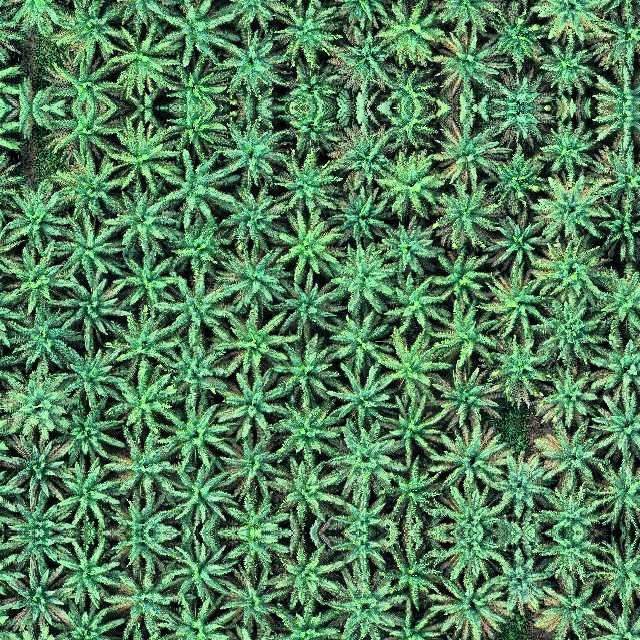Kelapa_Sawit: (330, 421, 406, 499), (212, 362, 290, 438), (155, 151, 231, 225), (330, 566, 406, 640), (532, 232, 612, 302), (326, 242, 399, 315), (160, 334, 231, 409), (535, 173, 610, 243), (435, 423, 510, 493), (487, 331, 555, 408), (434, 572, 509, 640), (3, 433, 74, 504), (3, 562, 74, 633), (51, 395, 123, 465), (2, 244, 75, 313), (2, 368, 72, 439), (380, 148, 448, 220), (162, 399, 234, 467), (374, 332, 447, 399), (270, 212, 344, 278), (274, 334, 340, 408), (59, 341, 127, 412), (52, 459, 123, 527), (52, 538, 123, 606), (380, 264, 447, 336), (53, 217, 128, 281), (155, 0, 231, 63), (57, 155, 127, 223), (57, 273, 128, 340), (3, 182, 71, 251), (163, 275, 233, 342), (378, 390, 445, 460), (431, 301, 502, 367), (111, 431, 184, 495), (111, 570, 184, 634), (216, 119, 286, 185), (216, 29, 286, 95), (542, 420, 607, 491), (433, 364, 505, 428), (273, 399, 345, 462), (112, 366, 178, 434), (380, 0, 448, 66), (331, 366, 400, 431), (220, 307, 290, 371), (274, 274, 345, 337), (431, 122, 504, 182), (431, 32, 504, 92), (223, 433, 290, 498), (223, 568, 290, 633), (327, 309, 396, 372), (112, 123, 173, 194), (112, 21, 173, 92), (541, 574, 606, 640), (273, 152, 341, 214), (273, 0, 341, 62), (115, 246, 181, 309), (112, 308, 175, 374), (487, 269, 549, 336), (10, 308, 79, 368), (57, 0, 127, 59), (108, 189, 180, 246), (435, 183, 499, 247), (276, 456, 340, 520), (276, 545, 340, 609), (384, 453, 444, 521), (384, 544, 444, 612), (169, 462, 235, 523), (169, 543, 235, 604), (428, 246, 493, 307), (538, 361, 598, 427), (540, 297, 598, 365), (488, 149, 550, 212), (488, 3, 550, 66), (490, 451, 551, 515), (490, 550, 551, 614), (225, 245, 288, 306), (49, 107, 124, 158), (49, 57, 124, 108), (224, 185, 284, 247), (167, 218, 230, 275), (334, 184, 393, 241), (488, 216, 548, 269), (338, 131, 397, 184), (538, 122, 597, 175), (338, 31, 397, 84), (538, 40, 597, 93), (534, 0, 609, 41), (538, 487, 606, 532), (538, 534, 606, 579), (162, 598, 234, 640), (381, 219, 438, 271), (51, 600, 123, 640), (163, 108, 221, 157), (163, 58, 221, 107), (436, 490, 503, 532), (436, 533, 503, 575), (599, 144, 639, 211), (599, 4, 639, 71), (273, 603, 345, 640), (599, 336, 639, 400), (603, 459, 640, 527), (603, 538, 640, 606), (603, 266, 639, 335), (281, 107, 340, 149), (281, 65, 340, 107), (605, 394, 640, 462), (377, 605, 444, 640), (225, 496, 288, 532), (225, 533, 288, 569), (3, 0, 71, 32), (493, 107, 546, 147), (493, 67, 546, 107), (113, 498, 173, 532), (113, 533, 173, 567), (330, 498, 389, 532), (330, 533, 389, 567), (435, 0, 499, 31), (607, 199, 639, 260), (385, 107, 431, 148), (385, 67, 431, 108), (108, 0, 180, 25), (333, 0, 392, 30), (7, 503, 68, 532), (7, 534, 68, 563), (593, 108, 639, 146), (593, 68, 639, 106), (224, 0, 284, 29), (604, 603, 639, 640), (607, 0, 639, 15)
